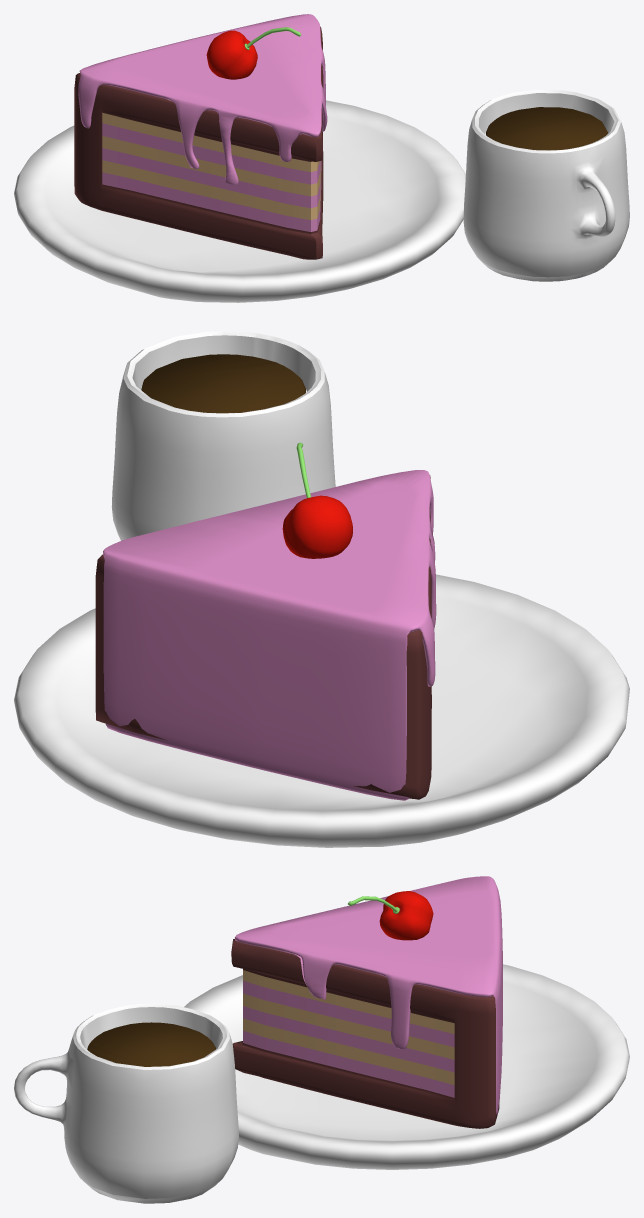
Rendered from Cake_coffe.fbx.
3 renders of one model, top to bottom at view 1: azimuth 30°, elevation 25°; view 2: azimuth 150°, elevation 25°; view 3: azimuth 270°, elevation 25°, orthographic. The views are drawn at different scales.
Visible parts, largest first — view 1: Cake, Bowl, Coffe, chery; view 2: Cake, Bowl, Coffe, chery; view 3: Cake, Bowl, Coffe, chery.
Part boxes in pixels (x1,y1,x2,y2): Cake: (74, 14, 327, 259); Bowl: (14, 100, 465, 302); Coffe: (463, 89, 629, 281); chery: (206, 27, 301, 79); Cake: (95, 470, 436, 800); Bowl: (14, 574, 629, 847); Coffe: (111, 331, 335, 540); chery: (282, 442, 352, 558); Cake: (231, 876, 502, 1128); Bowl: (184, 964, 629, 1169); Coffe: (14, 1003, 238, 1203); chery: (348, 891, 433, 940).
Bounding box in the file's own units: 107 × 44.37 × 120.
